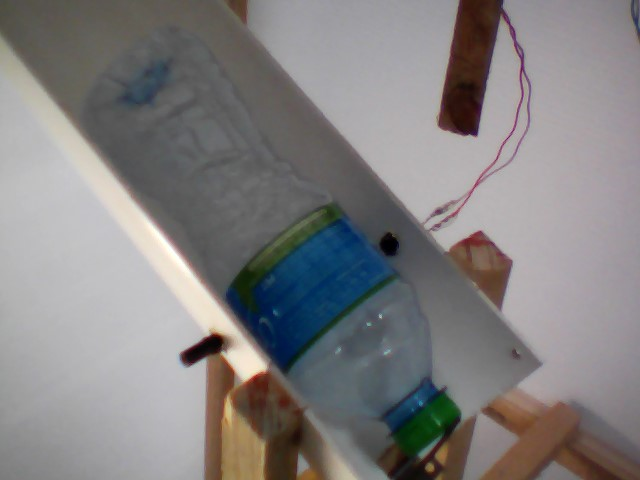plastico: (70, 16, 477, 456)
